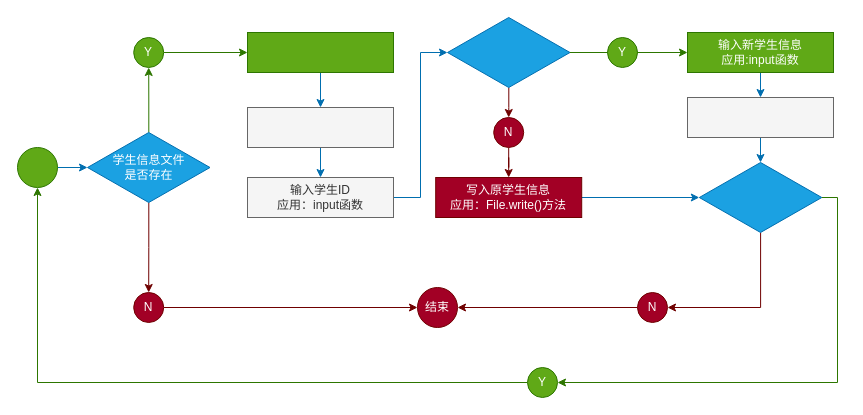
The diagram is 863 pixels wide and 415 high, and some of its shapes have lost their labels. The shapes that lost their labels are listed below. From the top down, each one's box as (x1, y1, x2, y2) in pixels, then its label:
(246, 32, 394, 72): 读取全部信息到列表 应用：file.readlines函数
(446, 16, 570, 88): 是否为要修改 的学生
(246, 106, 394, 148): 以写的模式打开文件 应用：open函数
(686, 96, 834, 138): 写入新信息到文件 应用:file.write方法
(16, 146, 58, 188): 开始
(698, 162, 822, 232): 判断是否 继续
